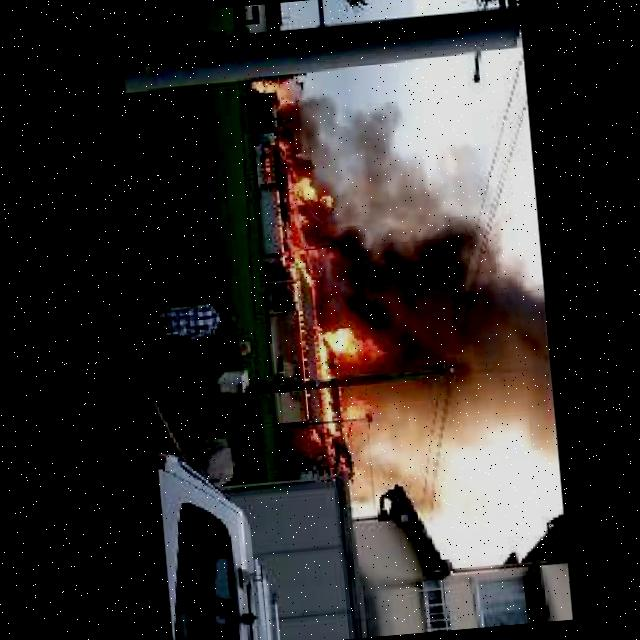fire: (277, 128, 339, 286), (313, 320, 376, 435), (289, 269, 313, 418), (309, 426, 356, 486), (273, 188, 287, 268), (252, 79, 290, 108)
